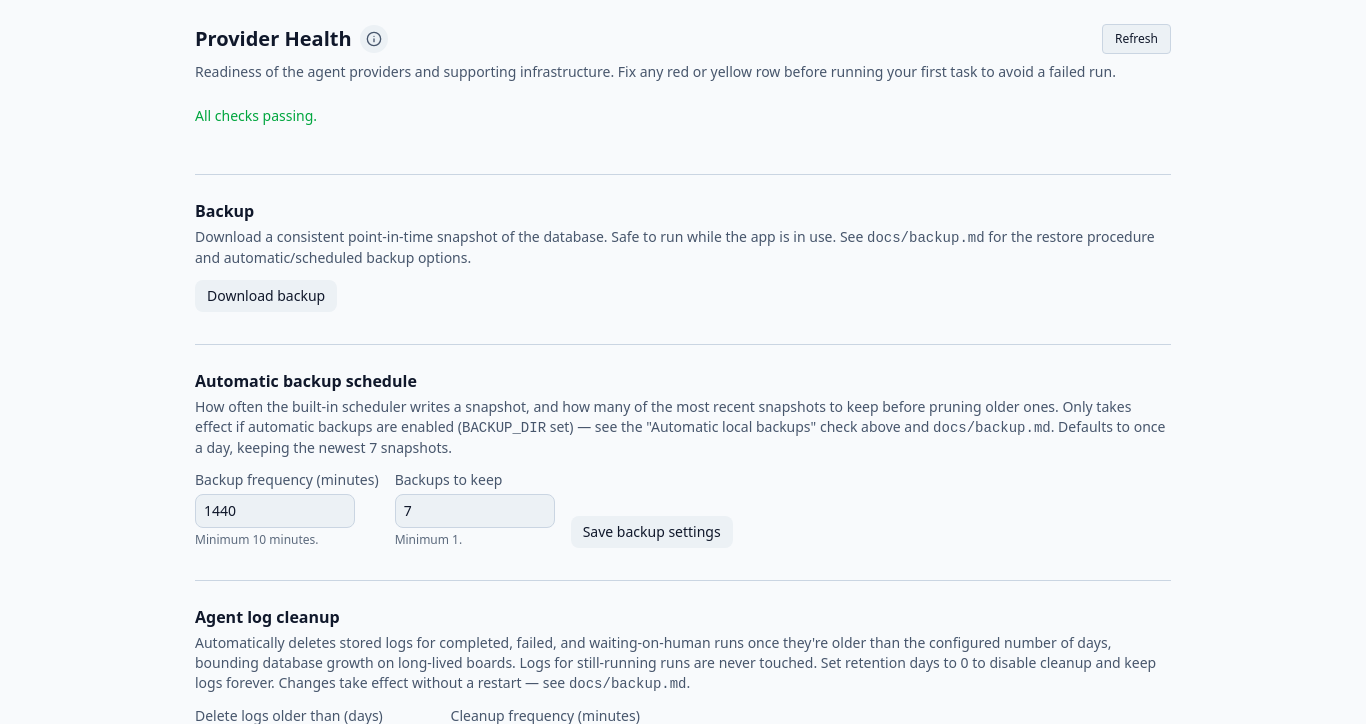
Test: HealthPage backup settings › saves valid settings via the API
The image size is (1366, 724).
Replace the text in the number field labelled "Backup frequency (minutes) Minimum 10 minutes." with "60" at (275,511), box [195, 494, 355, 528]
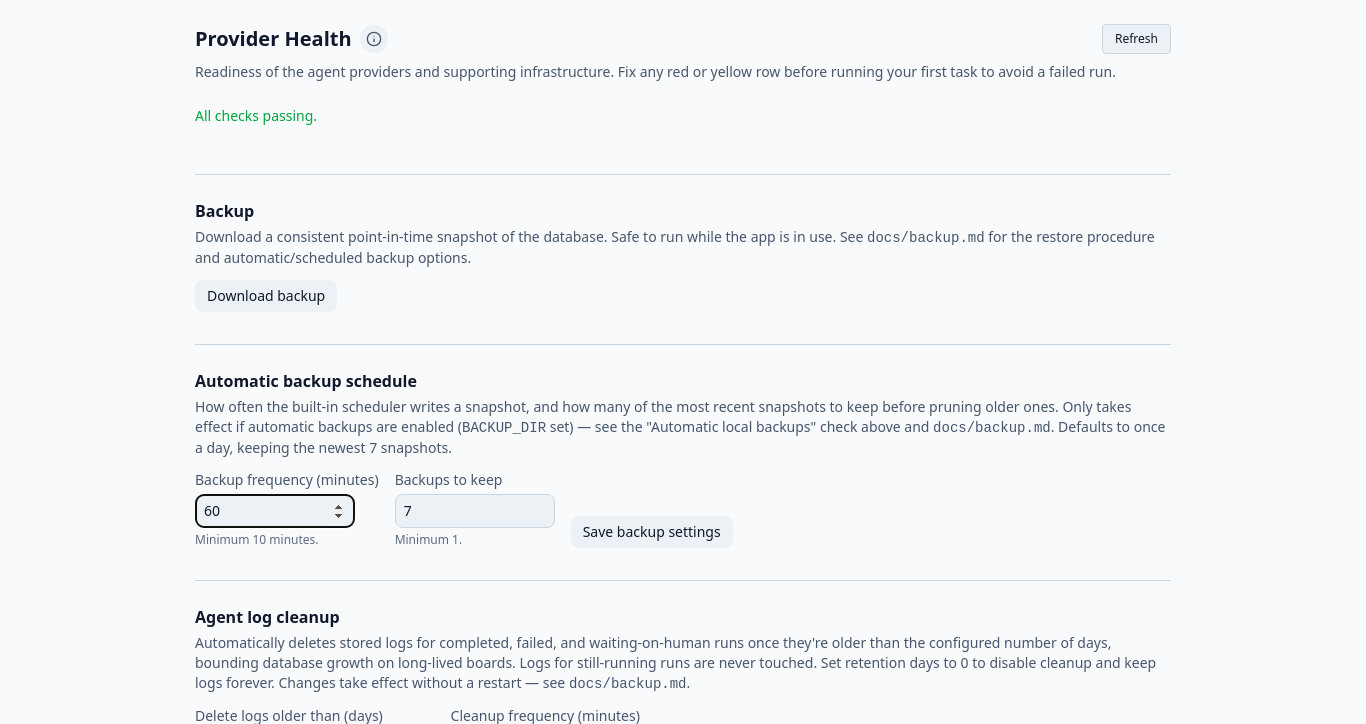
Replace the text in the number field labelled "Backups to keep Minimum 1." with "3" at (475,511), box [395, 494, 555, 528]
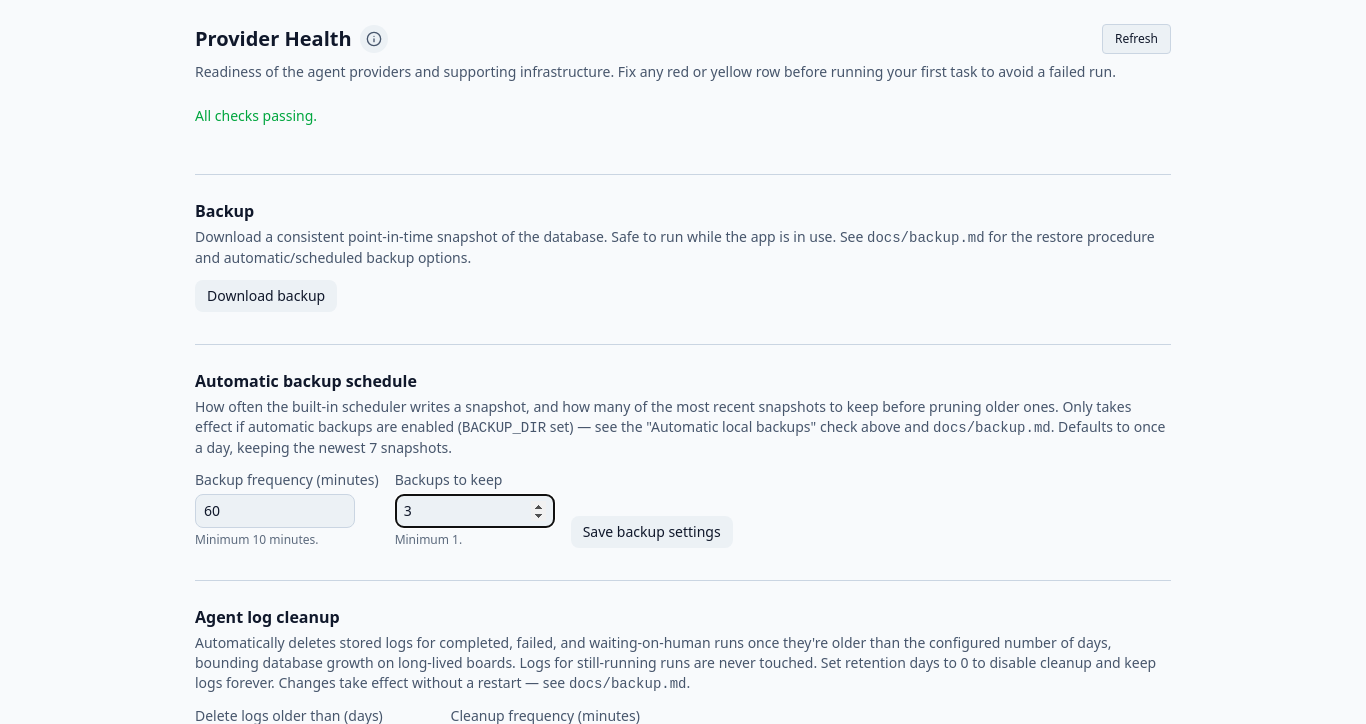
Click the button "Save backup settings" at (652,532), box [571, 516, 733, 548]
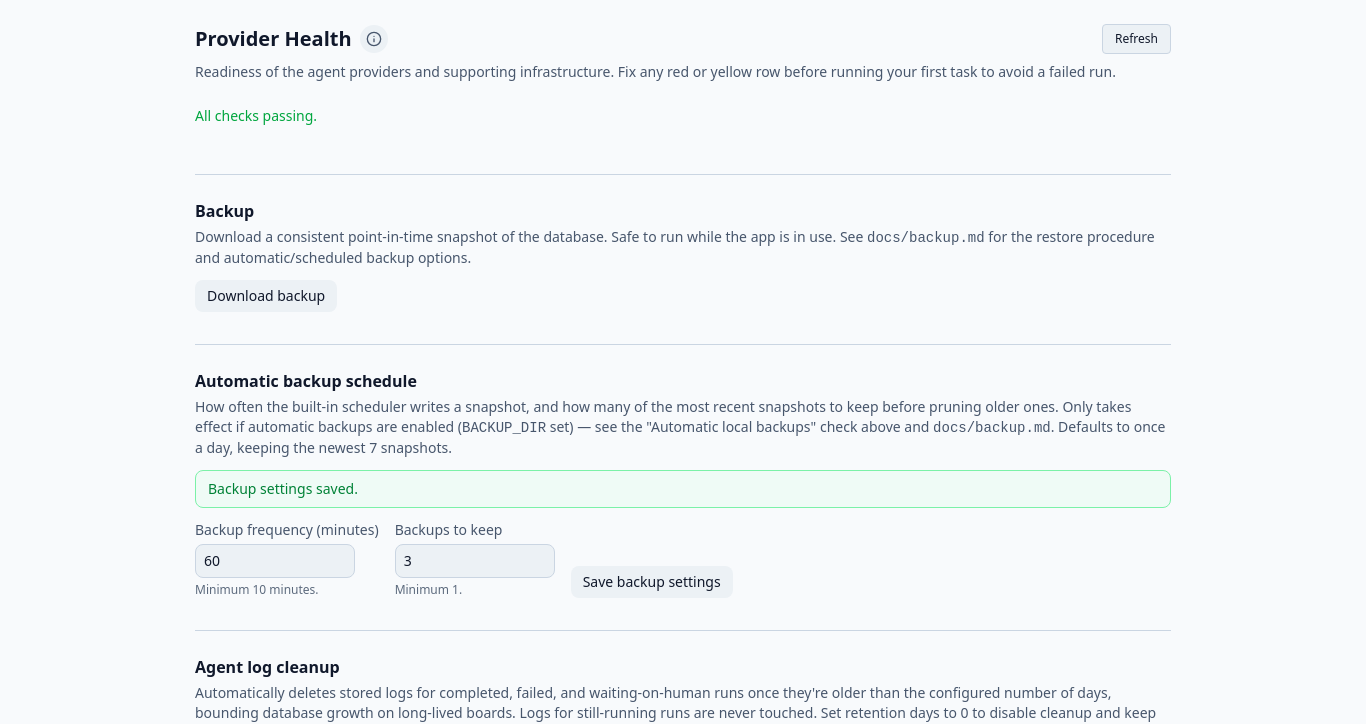
Now the text "Backup settings saved." is shown, box [195, 470, 1171, 508]
